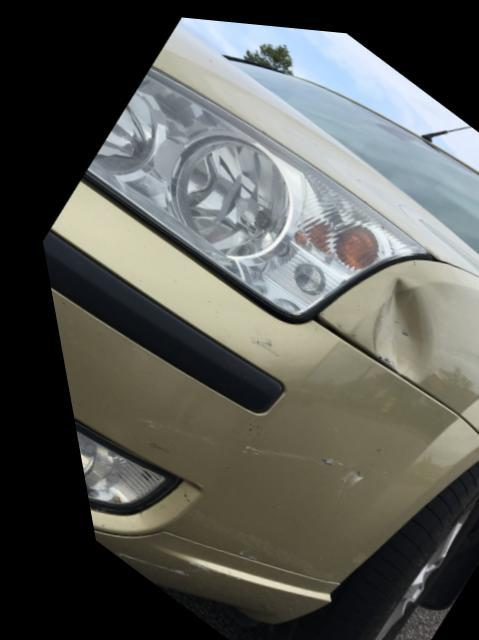dent: (361, 274, 424, 375)
scratch: (225, 437, 349, 490)
